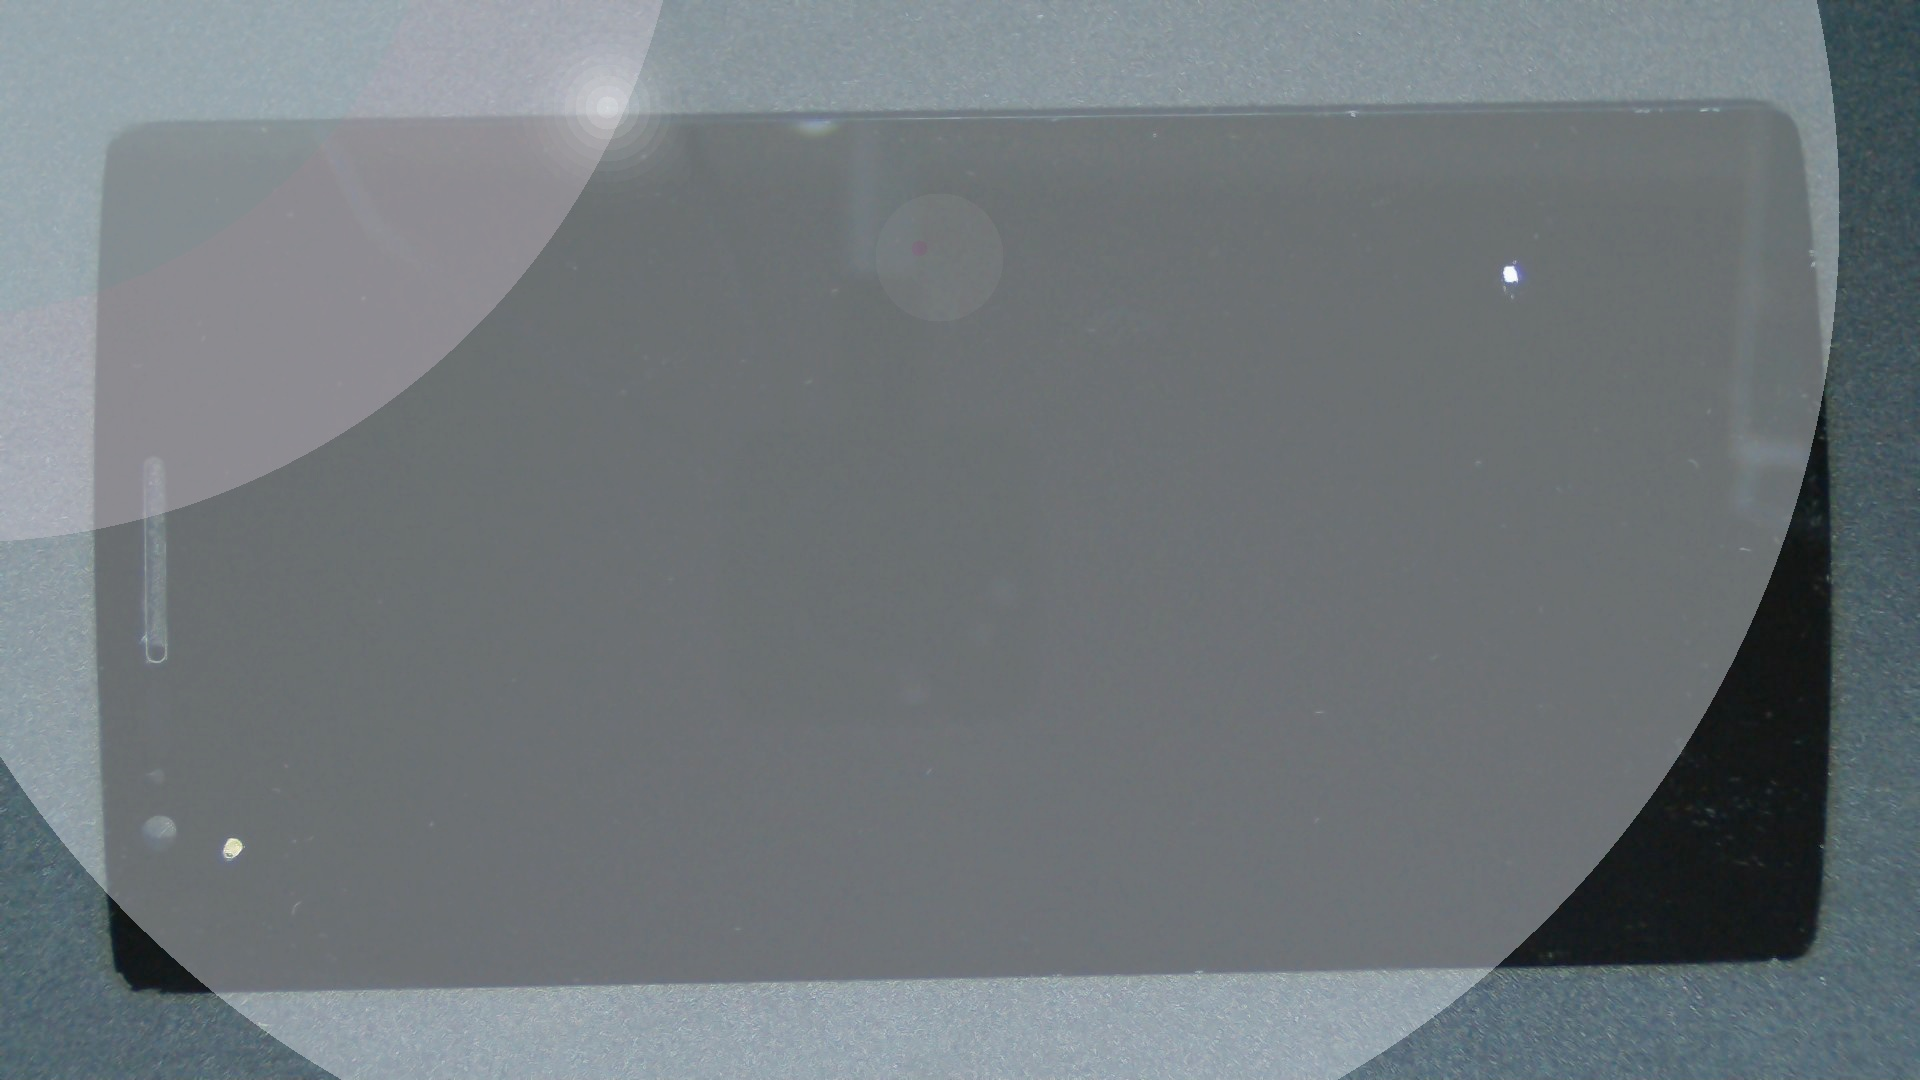oil: (753, 132, 1920, 397), (117, 418, 349, 1080)
